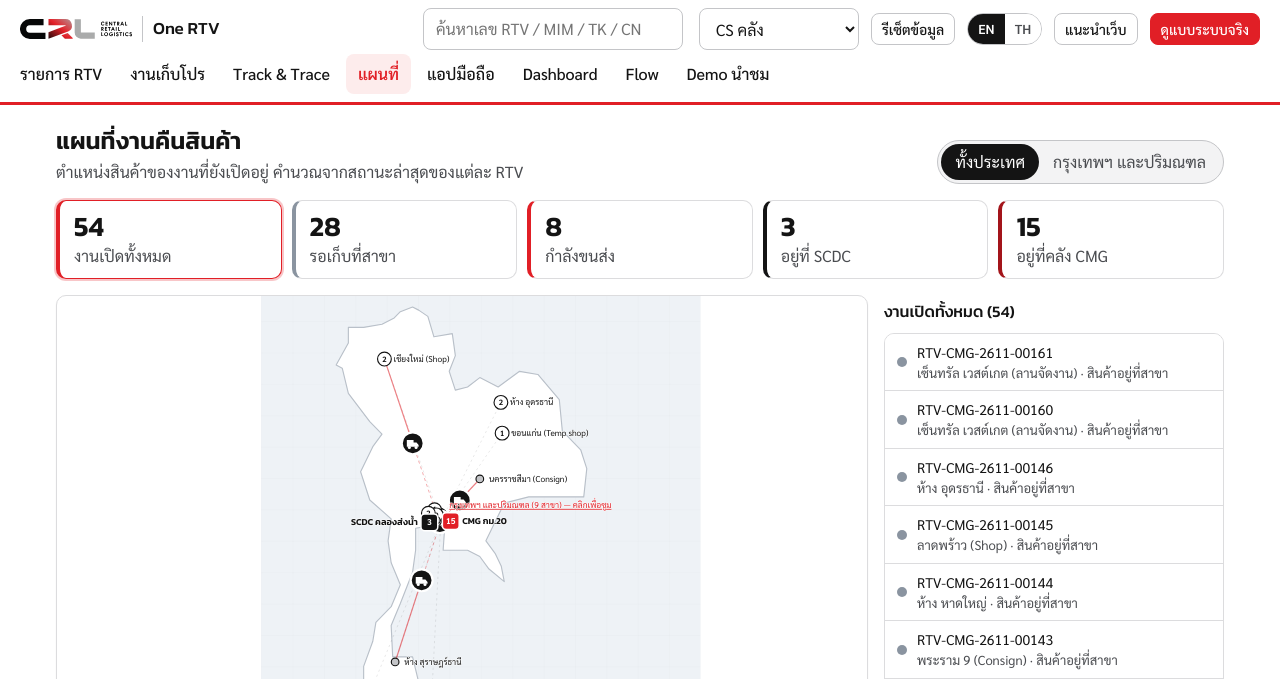
Scenario: the map page counts open RTVs by where the goods are
Click the button "8 กำลังขนส่ง": (640, 240) [527,200,753,279]
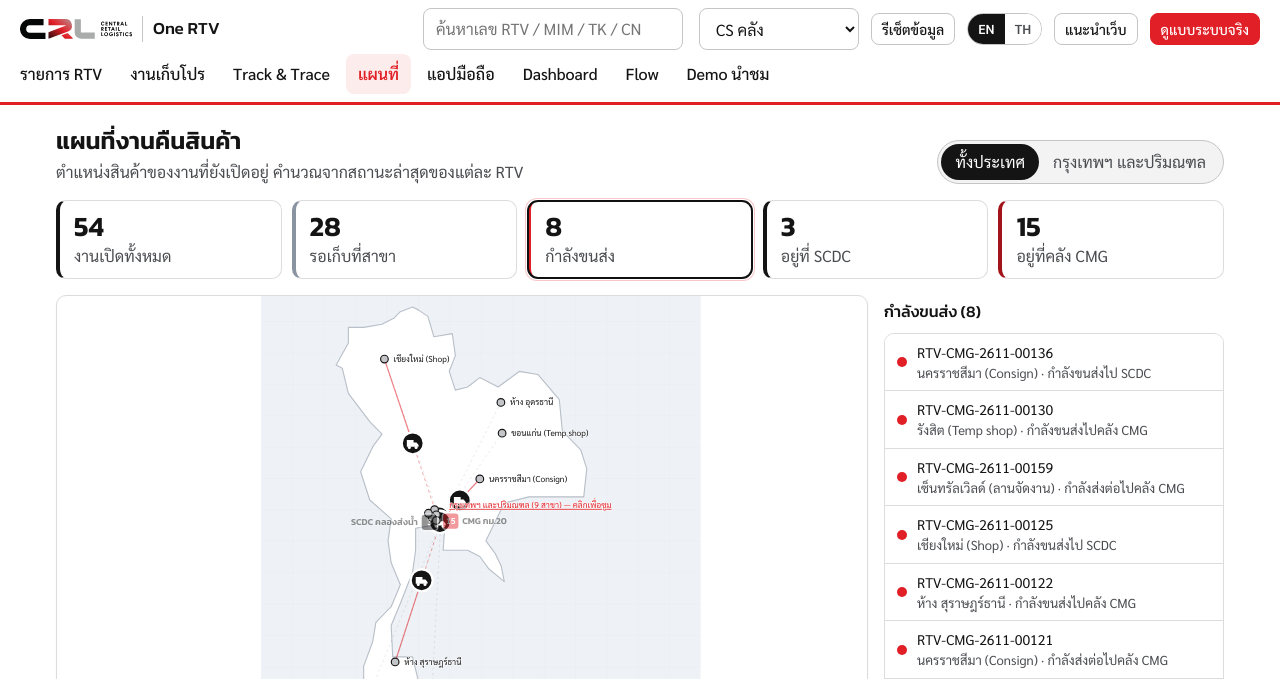
Now the heading "กำลังขนส่ง (8)" is shown, box [884,299,981,323]
